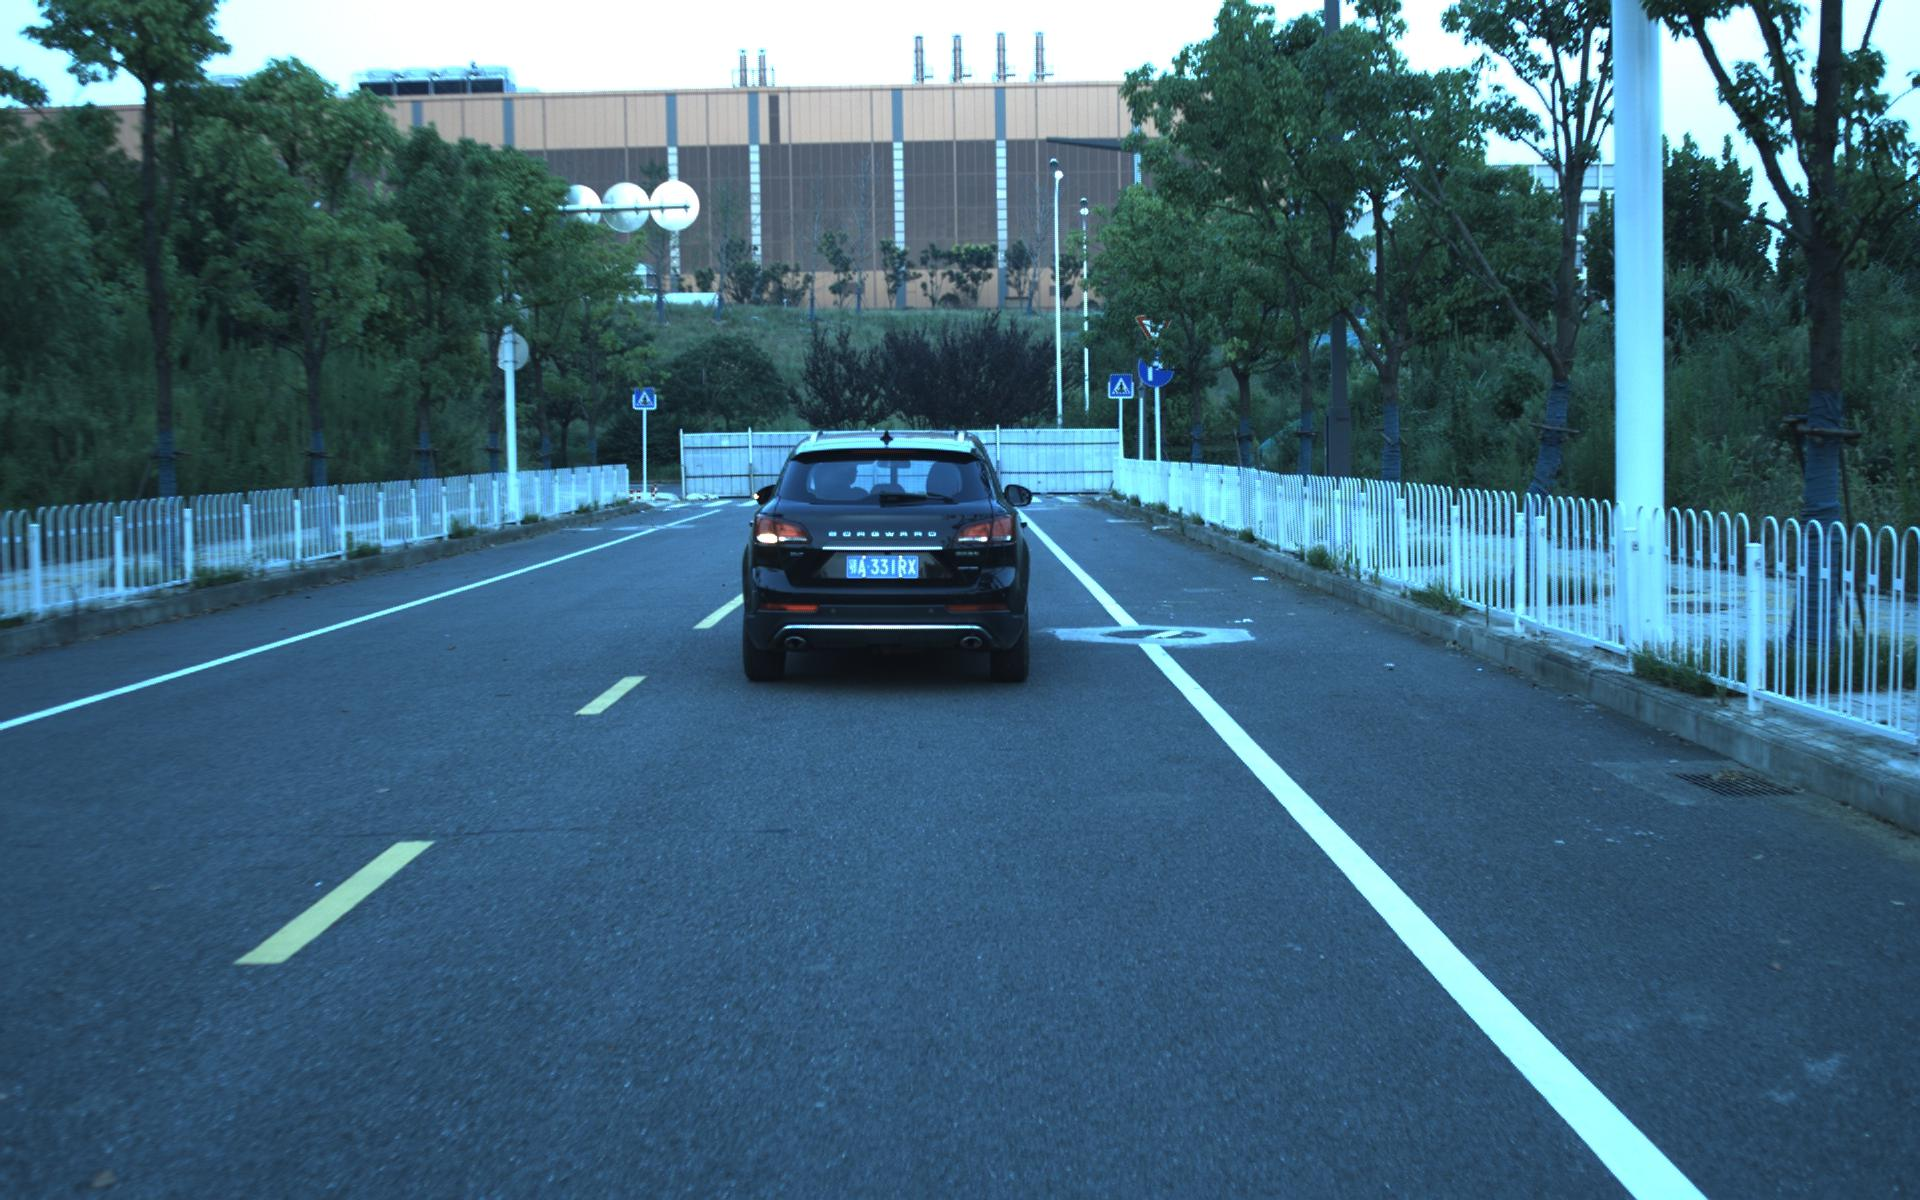Car: (737, 420, 1033, 687)
